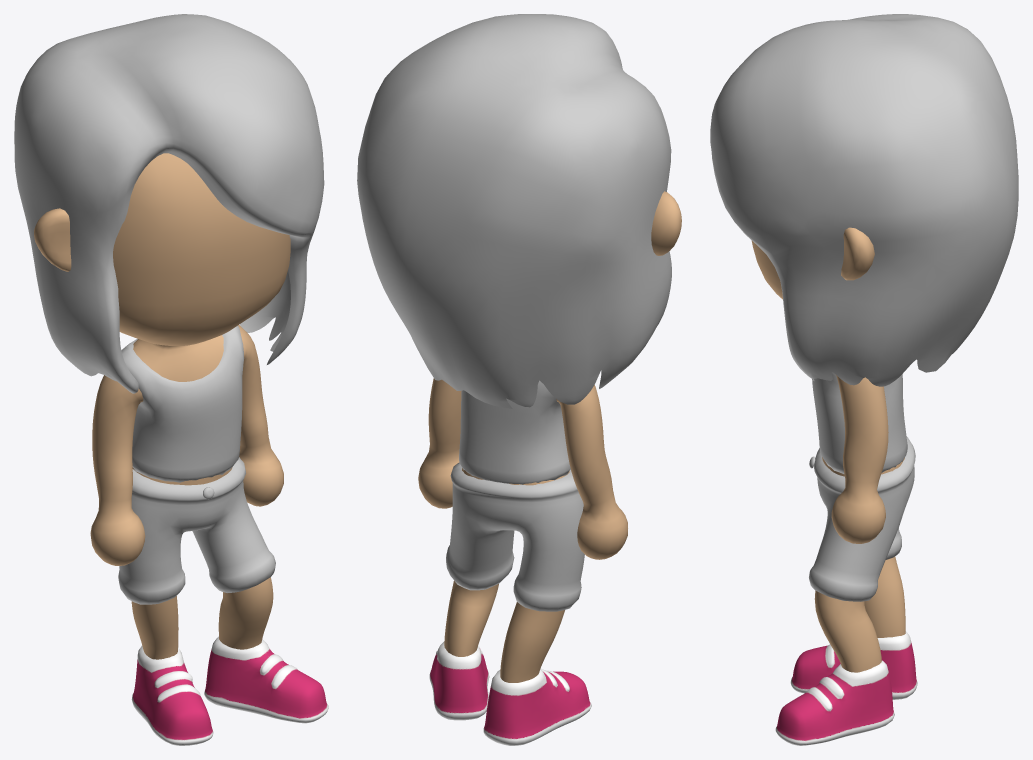
The model's file is character_test.fbx.
The picture shows the model from 3 angles, left to right: view 1: azimuth 30°, elevation 25°; view 2: azimuth 150°, elevation 25°; view 3: azimuth 270°, elevation 25°; orthographic projection. The views are drawn at different scales.
Visible parts, largest first — view 1: Body020; view 2: Body020; view 3: Body020.
Part boxes in pixels (bbox=[...]): Body020: bbox=[14, 14, 328, 745]; Body020: bbox=[357, 14, 681, 745]; Body020: bbox=[710, 14, 1018, 745].
Bounding box in the file's own units: 9.35 × 8.96 × 21.3.
